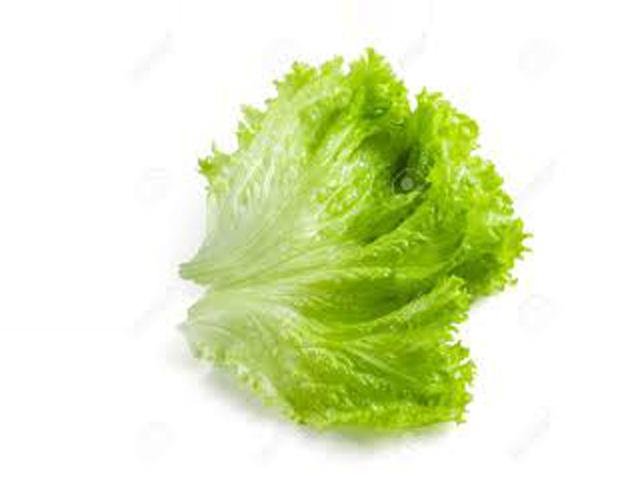lettuce: (124, 26, 554, 470)
